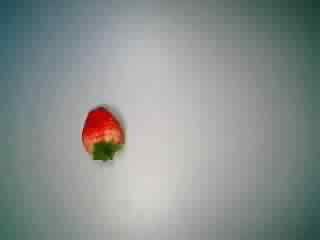strawberry: (66, 99, 132, 165)
